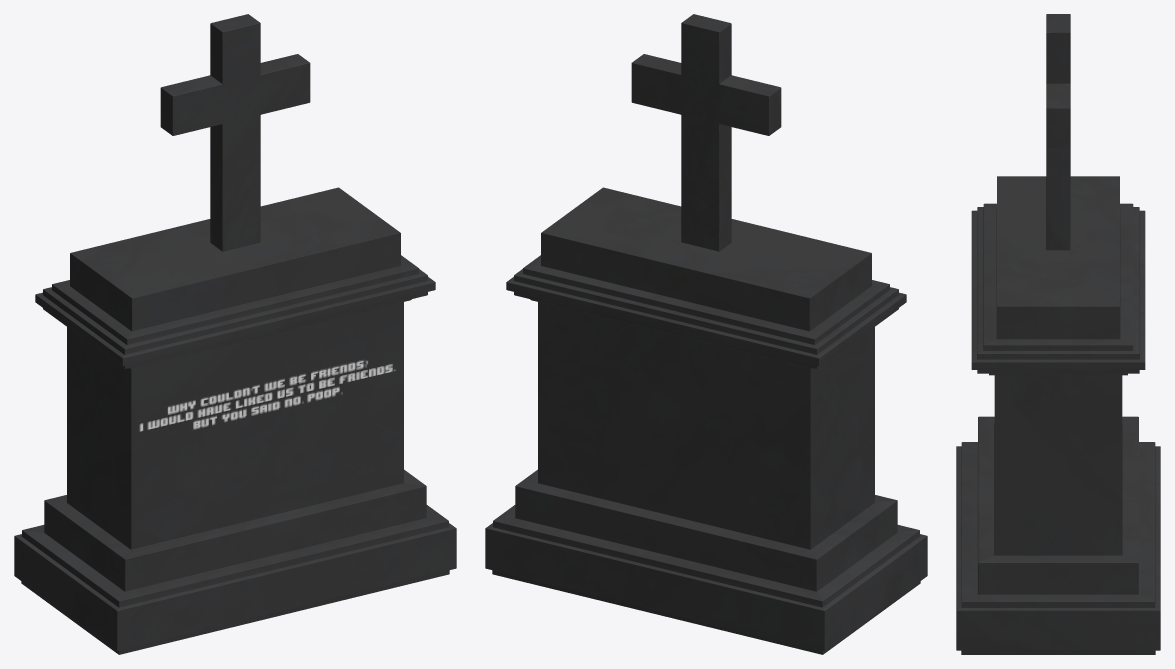
The model's file is henke.obj.
3 views of the same model, side by side, from view 1: azimuth 30°, elevation 25°; view 2: azimuth 150°, elevation 25°; view 3: azimuth 270°, elevation 25° (orthographic).
Parts seen in each view (by area): view 1: henke triangle_done; view 2: henke triangle_done; view 3: henke triangle_done.
Part boxes in pixels (box(x1,y1,x2,y2)): henke triangle_done: box(14, 14, 456, 654); henke triangle_done: box(485, 14, 927, 654); henke triangle_done: box(956, 14, 1160, 654).
Size of the model in its own units: 23.74 by 37.16 by 12.46.
1 material, 1 textured.
